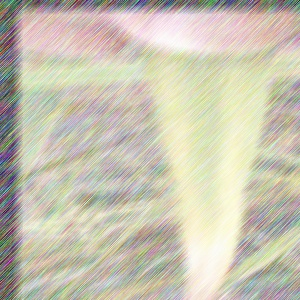Leaf_Blast: (169, 54, 247, 245)
